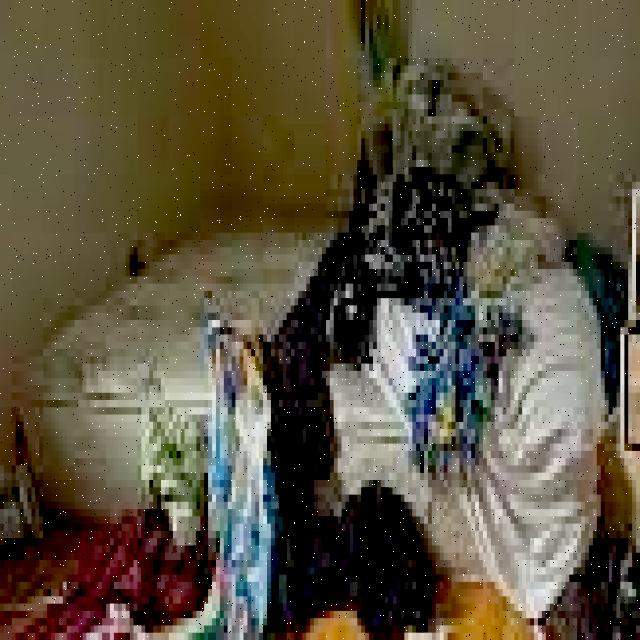bed: (48, 73, 567, 507)
